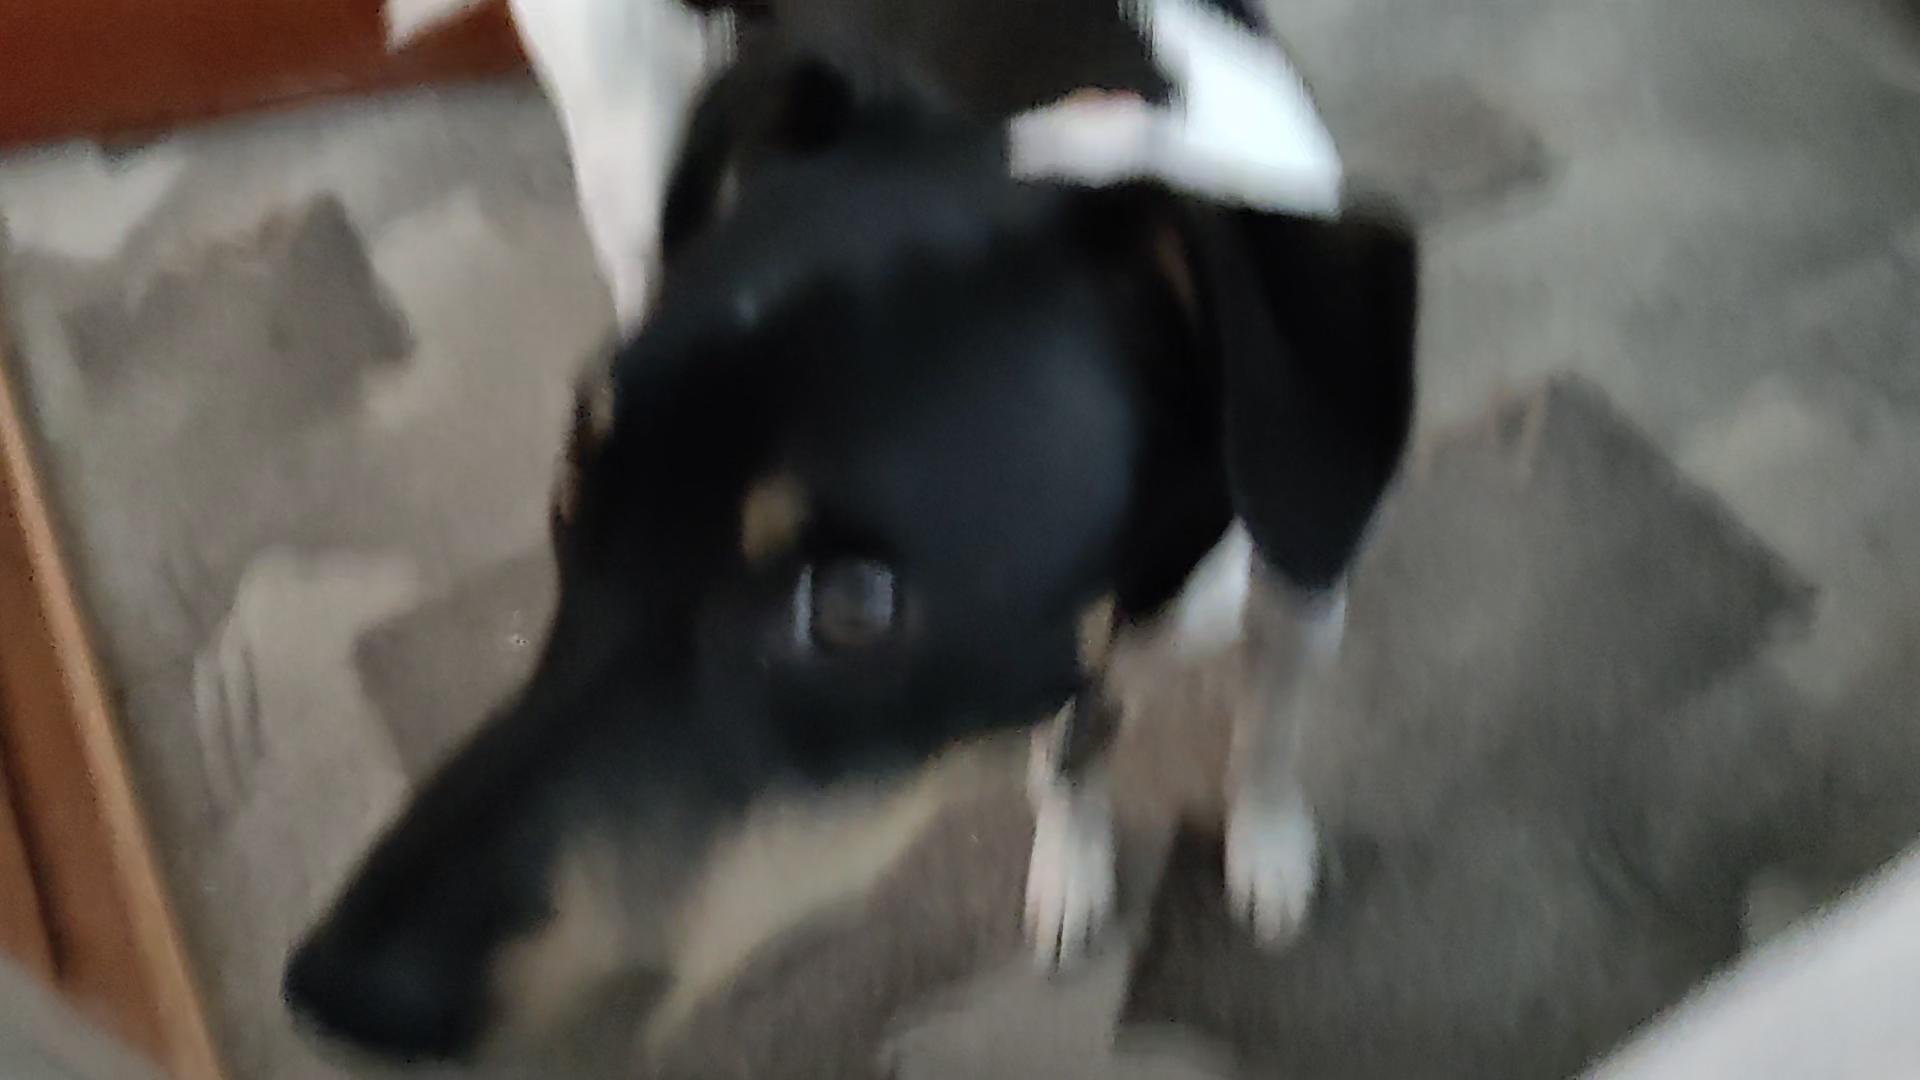Dog: (273, 0, 1440, 1065)
